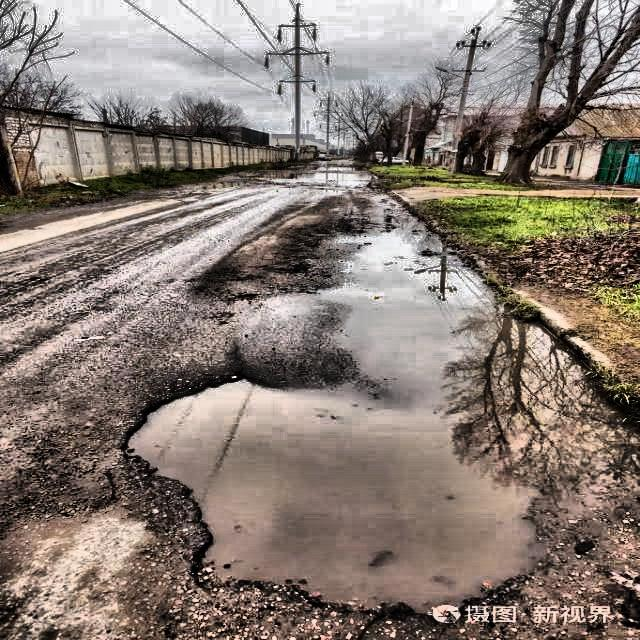buraco: (124, 374, 562, 624)
